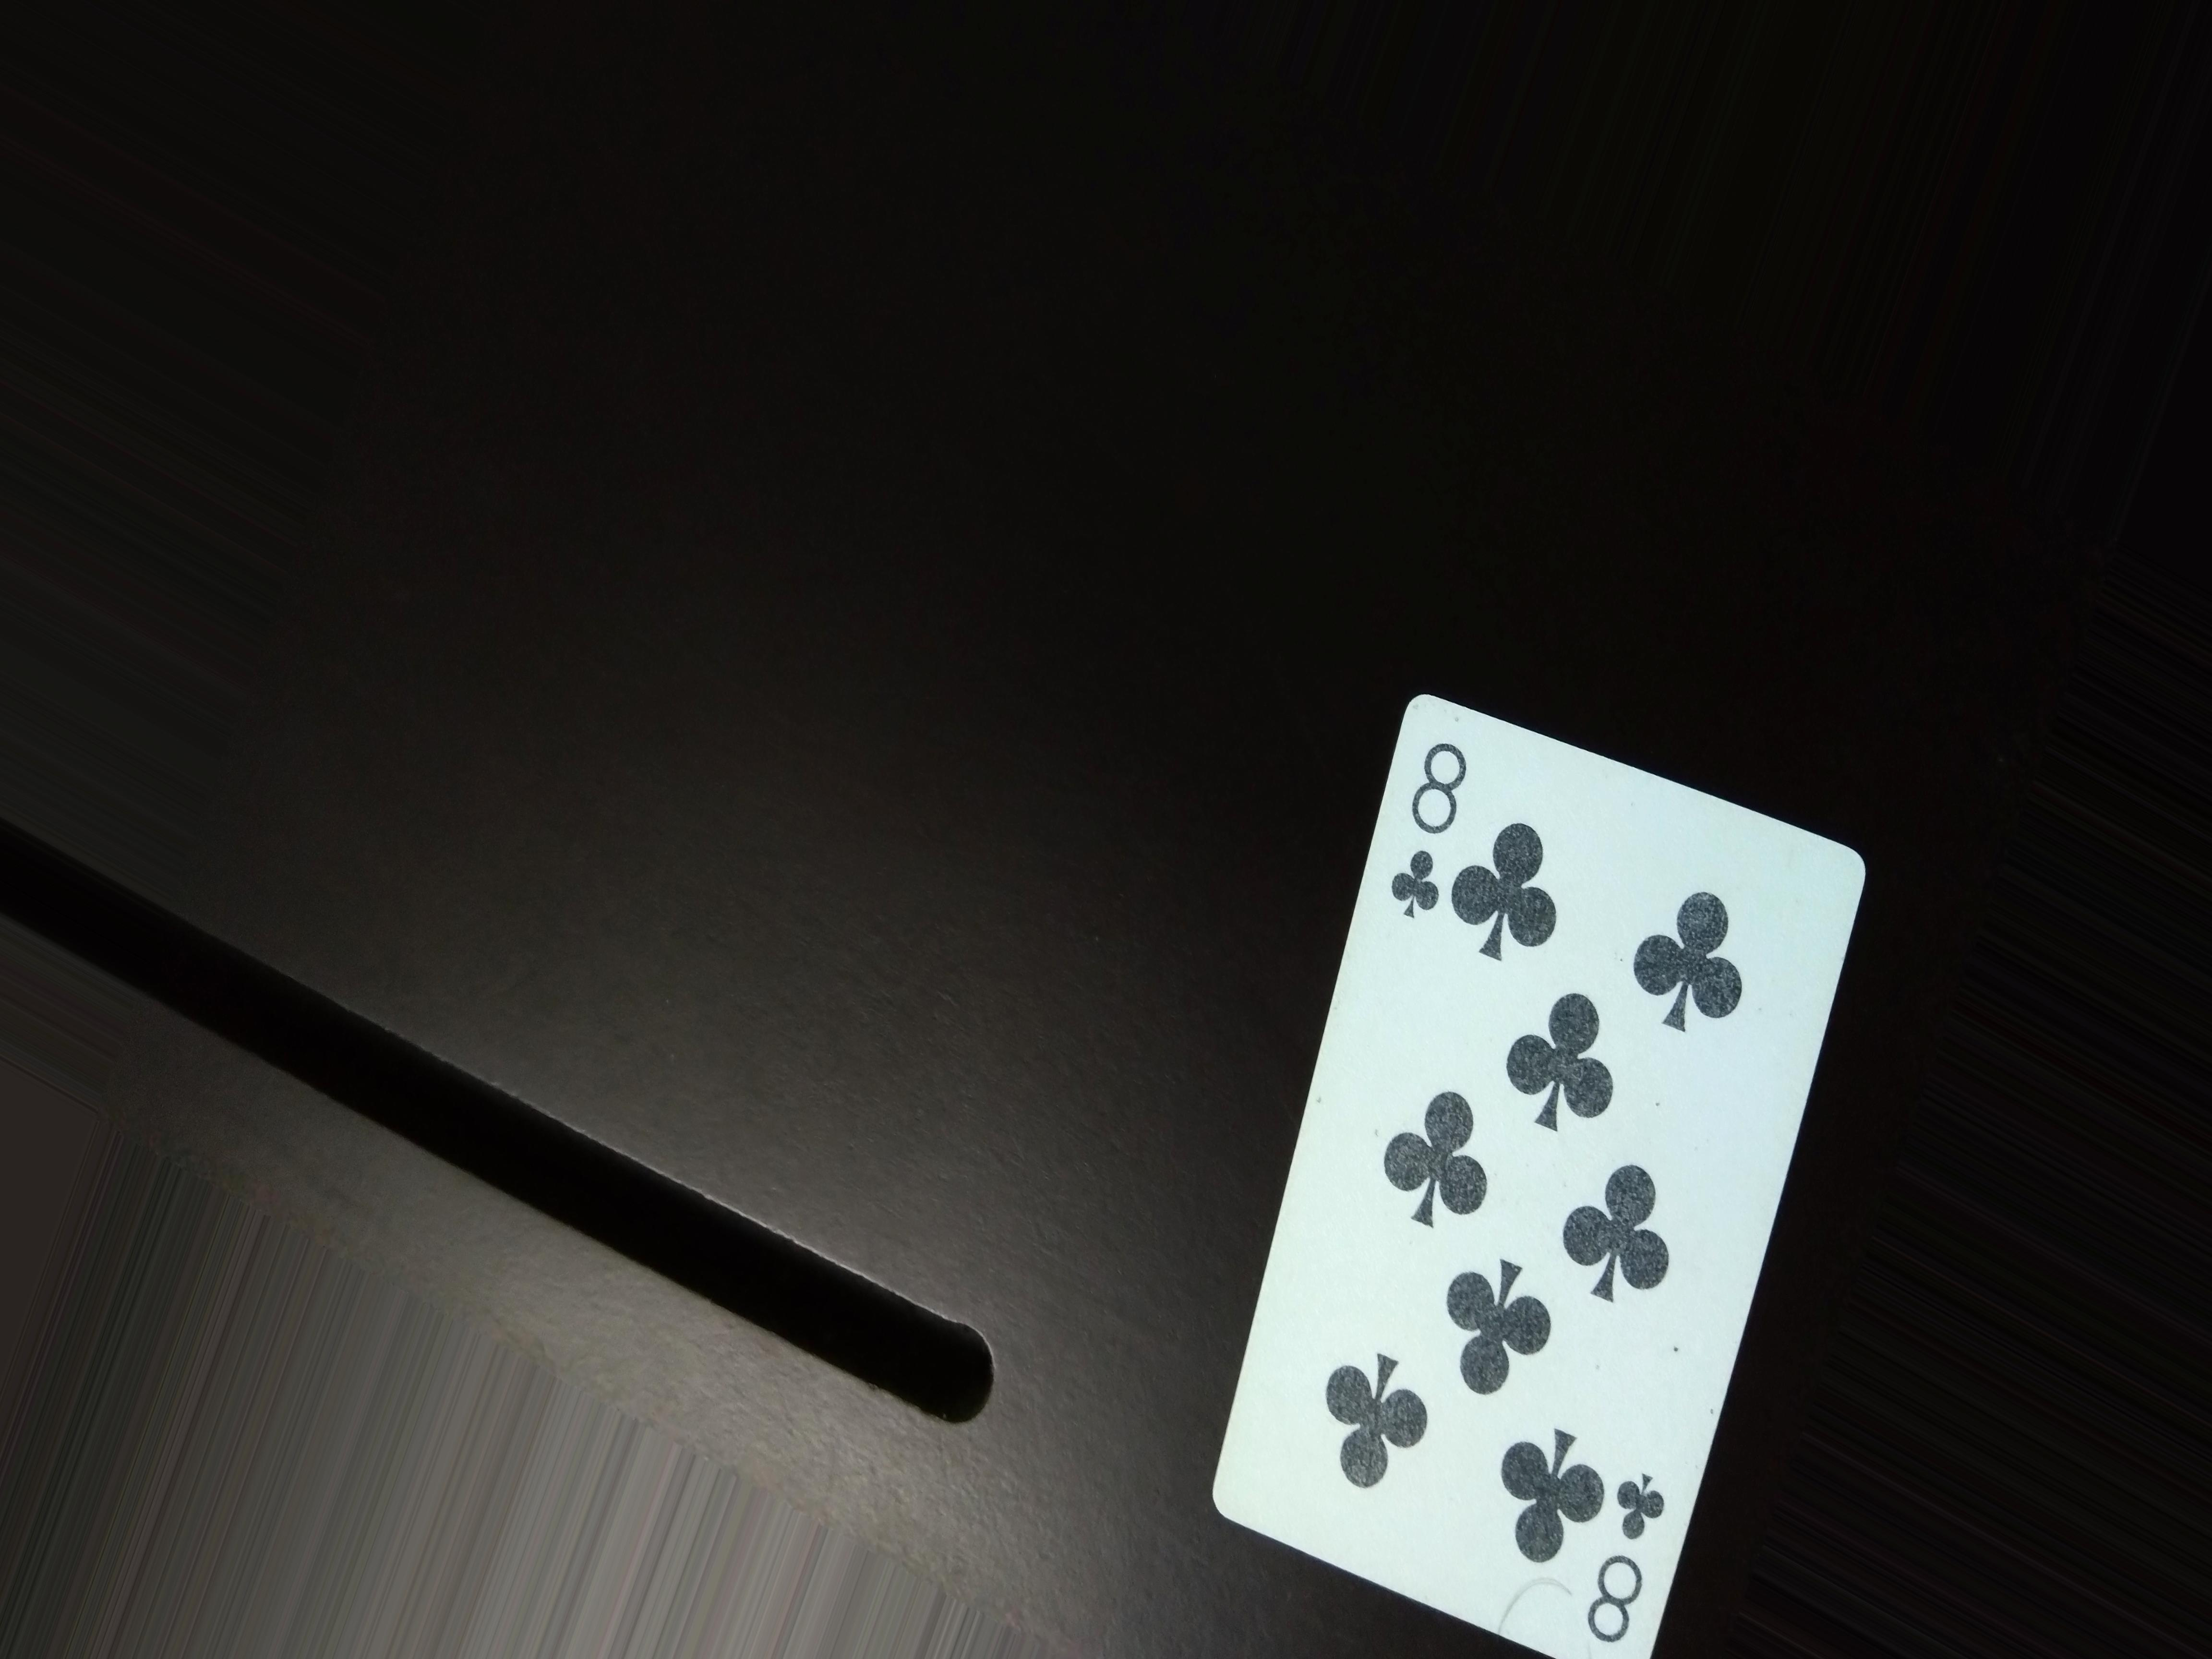8C: (1388, 718, 1491, 924)
